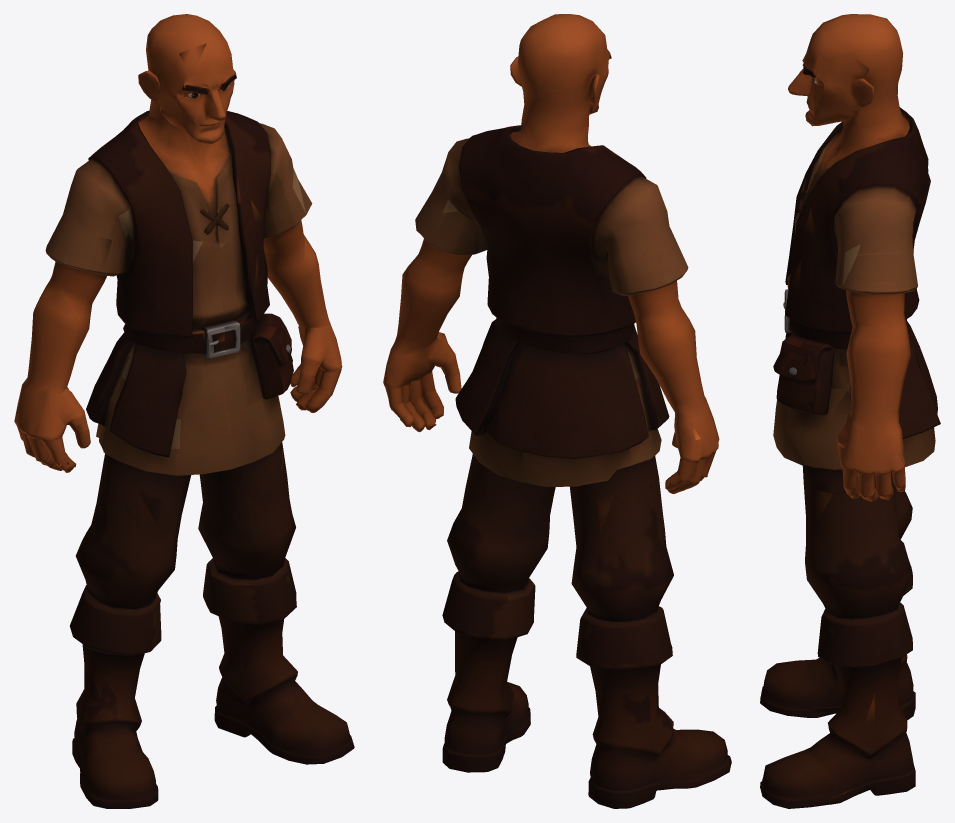
File: koerper.glb
3 renders of one model, left to right at view 1: azimuth 30°, elevation 25°; view 2: azimuth 150°, elevation 25°; view 3: azimuth 270°, elevation 25°, orthographic. The views are drawn at different scales.
Visible parts, largest first — view 1: koerper; view 2: koerper; view 3: koerper.
Boxes of the visible parts, left/top/right/bottom form: koerper: left=14, top=14, right=354, bottom=808; koerper: left=383, top=14, right=731, bottom=808; koerper: left=760, top=14, right=940, bottom=808.
Bounding box in the file's own units: 0.8034 × 1.8 × 0.4031.
1 material, 1 textured.
